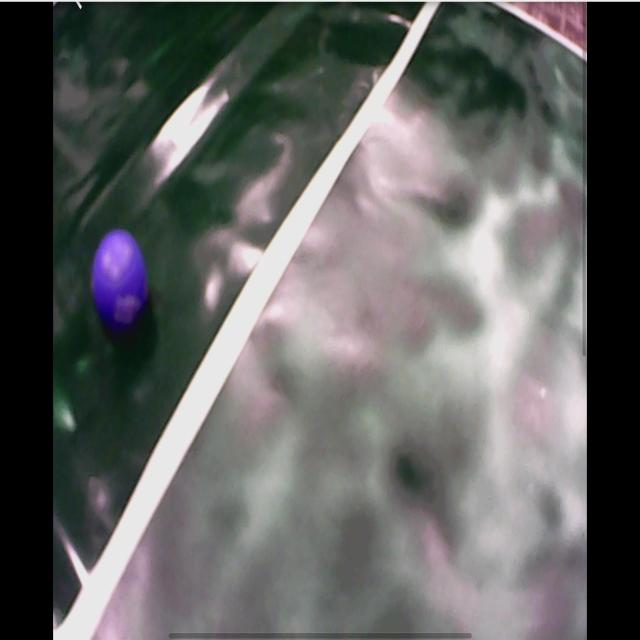ball: (90, 231, 148, 322)
